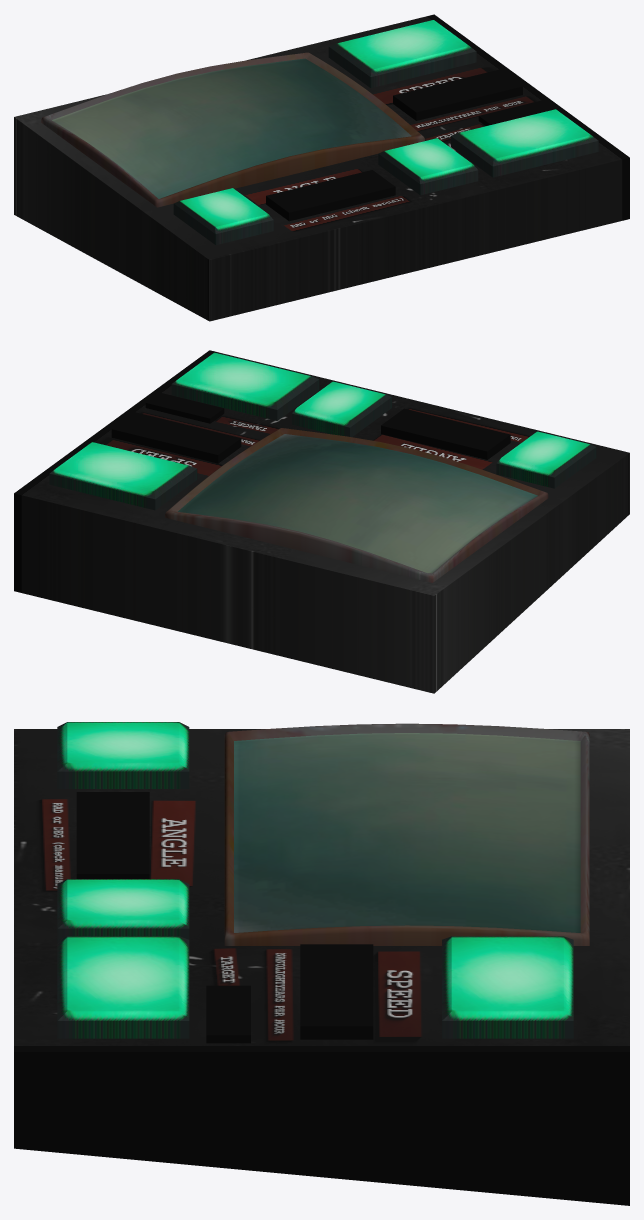
File: NavTerminal.fbx
3 views of the same model, one above another, from view 1: azimuth 30°, elevation 25°; view 2: azimuth 150°, elevation 25°; view 3: azimuth 270°, elevation 25° (orthographic). The views are drawn at different scales.
Visible parts, largest first — view 1: Console, ButtonU, ButtonD, ButtonR, ButtonL; view 2: Console, ButtonD, ButtonU, ButtonL, ButtonR; view 3: Console, ButtonD, ButtonU, ButtonL, ButtonR.
Part boxes in pixels (<box>): Console: <box>14,14,629,321</box>; ButtonU: <box>328,20,476,87</box>; ButtonD: <box>451,109,598,177</box>; ButtonR: <box>378,138,478,195</box>; ButtonL: <box>173,188,273,244</box>; Console: <box>14,350,629,693</box>; ButtonD: <box>171,352,319,420</box>; ButtonU: <box>49,442,197,510</box>; ButtonL: <box>496,431,596,488</box>; ButtonR: <box>292,381,391,437</box>; Console: <box>14,723,629,1205</box>; ButtonD: <box>57,936,189,1038</box>; ButtonU: <box>442,936,573,1038</box>; ButtonL: <box>57,722,189,788</box>; ButtonR: <box>57,879,189,939</box>.
Size of the model in its own units: 128 by 103 by 35.34.
